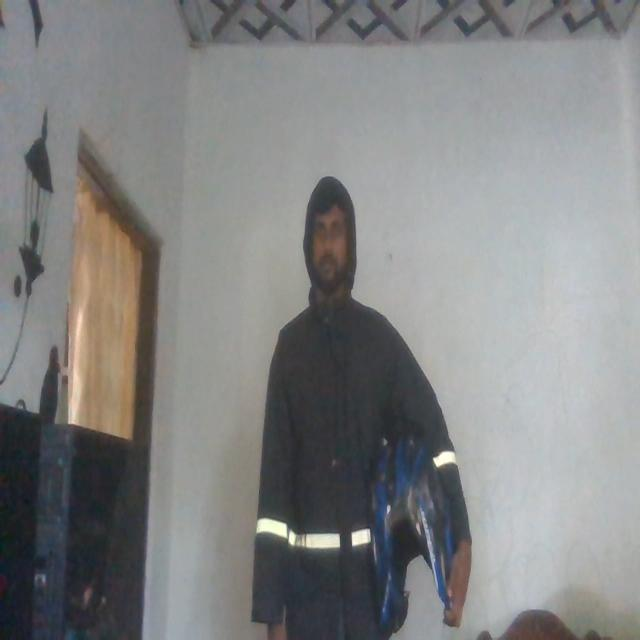Jacket_Wearer: (253, 289, 449, 640)
Person: (243, 156, 465, 640)
